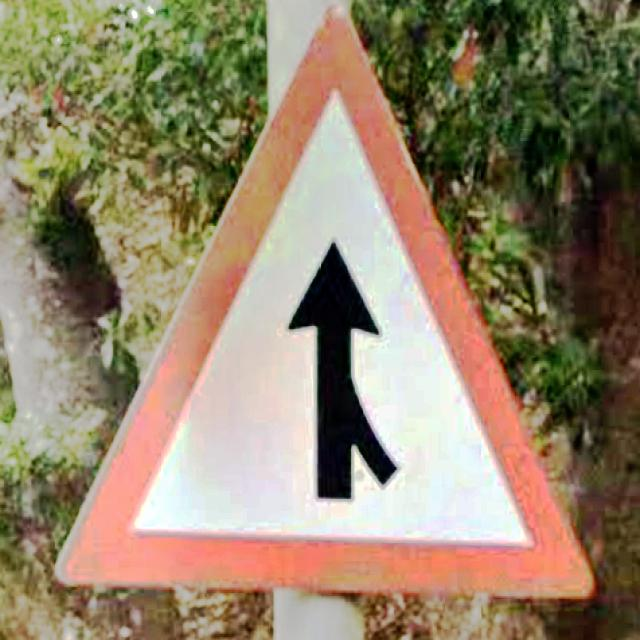rightmerge: (58, 2, 594, 601)
